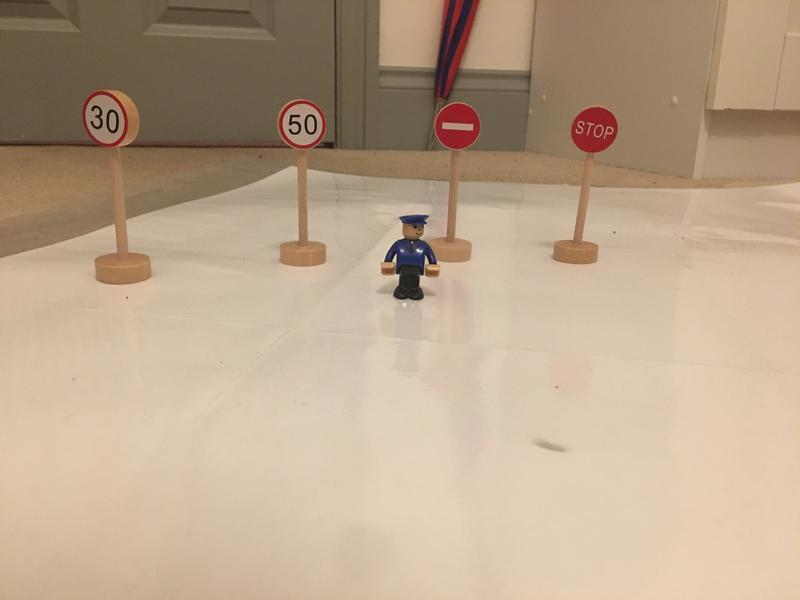Traffic_Sign_30: (83, 90, 128, 148)
Traffic_Sign_50: (279, 99, 325, 150)
Traffic_Sign_No_Entry: (436, 101, 480, 151)
Traffic_Sign_Stop: (570, 106, 618, 154)
person: (379, 213, 443, 303)
